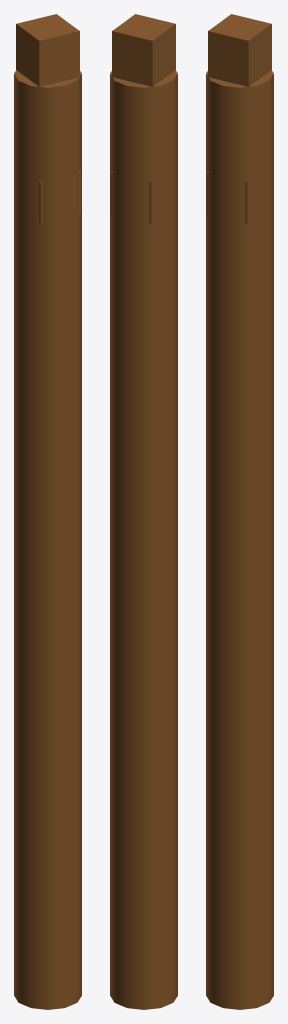
File: legBackLeft.glb
3 renders of one model, left to right at view 1: azimuth 30°, elevation 25°; view 2: azimuth 150°, elevation 25°; view 3: azimuth 330°, elevation 25°, orthographic.
Size of the model in its own units: 0.08 by 1.26 by 0.08.
